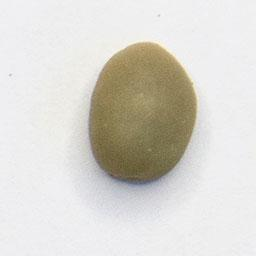premium: (85, 39, 201, 185)
